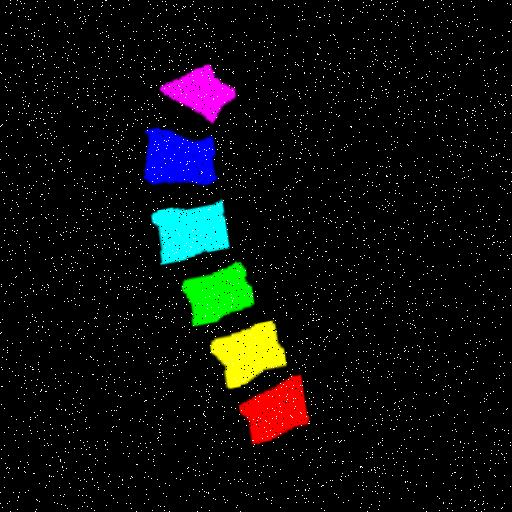L1: (239, 376, 308, 445)
L2: (210, 321, 286, 389)
L3: (180, 263, 253, 326)
L4: (150, 200, 228, 265)
L5: (143, 129, 215, 184)
S1: (159, 66, 234, 123)
